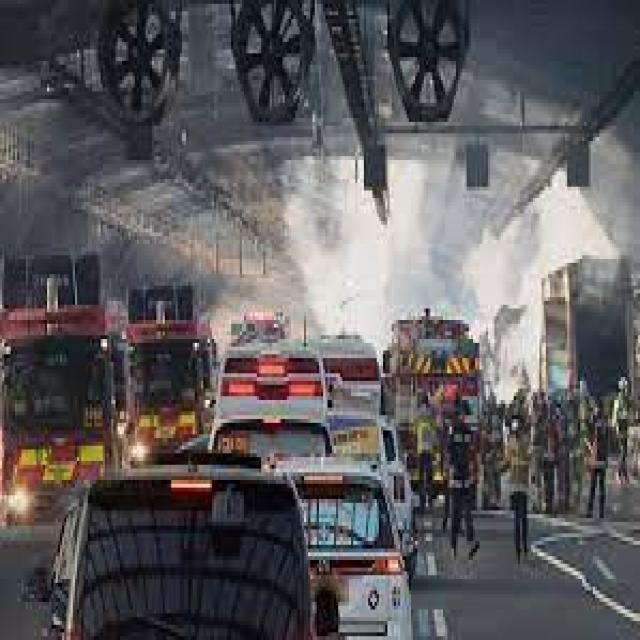Smoke: (400, 222, 520, 314), (314, 220, 382, 332)
